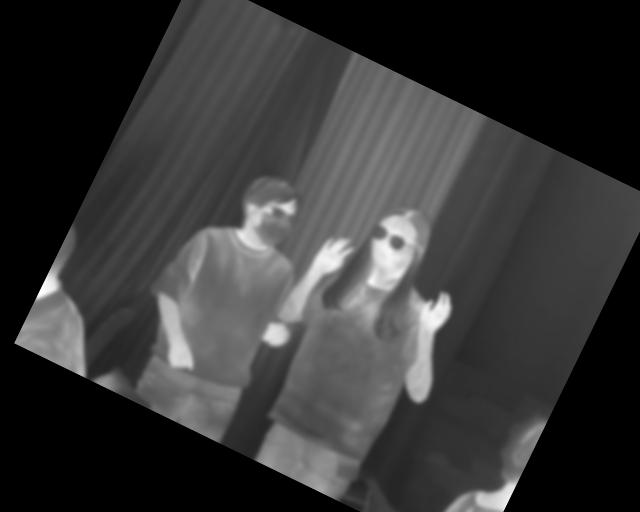face: (228, 167, 311, 254), (357, 197, 438, 285)
